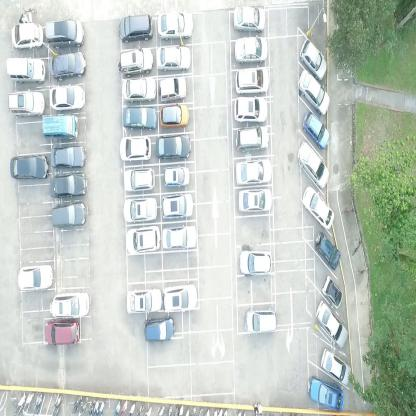car: (297, 139, 330, 190), (314, 300, 348, 348), (297, 69, 331, 115), (302, 184, 334, 229), (306, 375, 343, 411), (320, 346, 352, 387), (45, 18, 86, 50), (298, 39, 328, 80), (302, 108, 330, 150), (126, 224, 162, 256), (49, 290, 90, 318), (162, 282, 199, 313), (157, 10, 194, 41), (117, 47, 153, 78), (118, 12, 154, 43), (234, 66, 270, 96), (7, 89, 44, 118), (314, 229, 341, 268), (9, 154, 48, 181), (6, 57, 45, 84), (126, 285, 162, 314), (50, 51, 86, 80), (42, 114, 80, 141), (50, 83, 85, 112), (155, 44, 191, 72), (50, 171, 86, 199), (235, 158, 272, 185), (154, 134, 192, 160), (244, 306, 278, 335), (52, 201, 86, 230), (121, 76, 157, 103), (17, 264, 53, 291), (234, 96, 268, 124), (236, 123, 270, 151), (161, 224, 197, 250), (122, 105, 158, 131), (120, 133, 152, 162), (44, 321, 81, 346), (234, 36, 268, 63), (239, 249, 273, 276), (123, 196, 158, 222), (234, 4, 266, 32), (161, 192, 194, 219), (11, 23, 44, 50), (238, 188, 273, 213), (123, 165, 155, 192), (50, 145, 86, 169), (159, 103, 190, 129), (144, 316, 174, 342), (321, 274, 343, 308), (159, 76, 187, 102), (163, 165, 190, 189)
